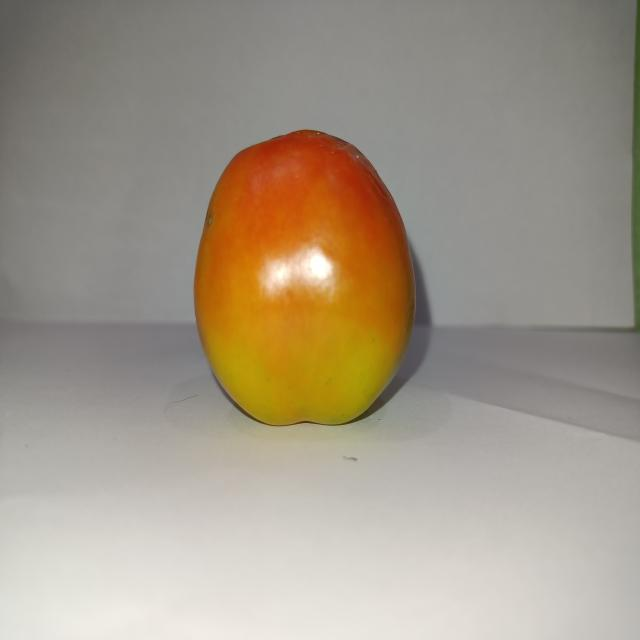Red: (192, 127, 417, 427)
